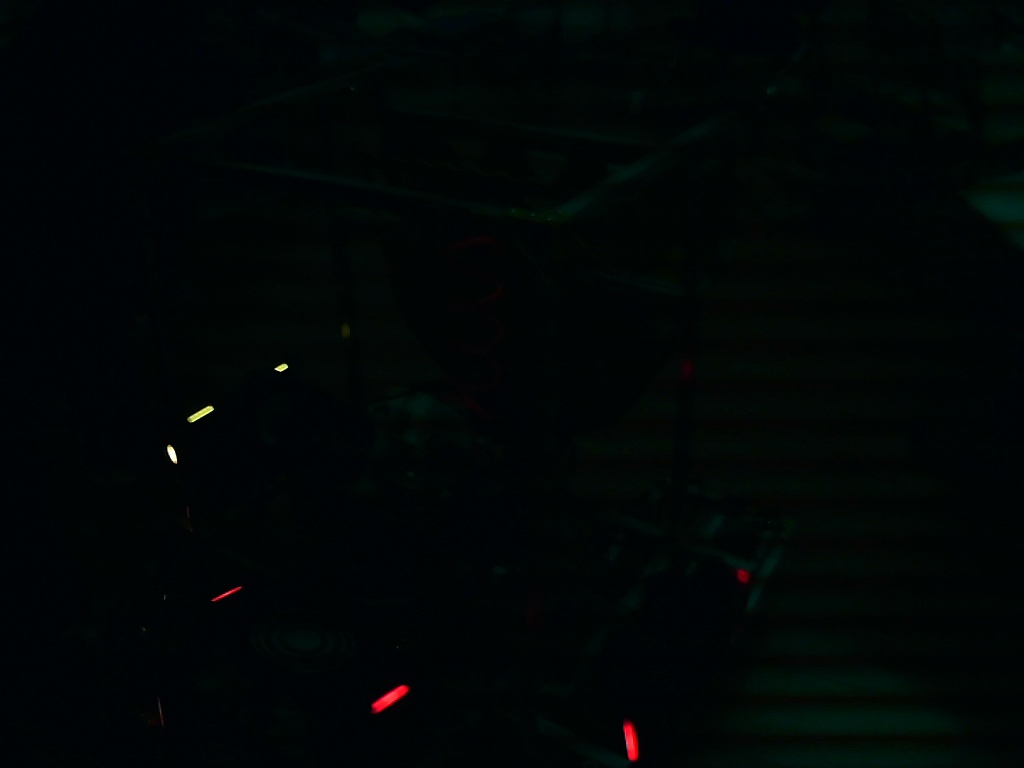lamp: (620, 718, 643, 764)
